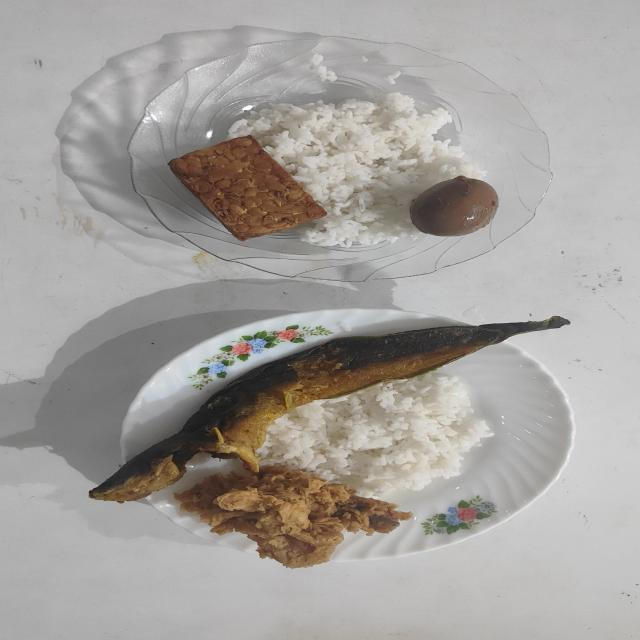nasi_putih: (230, 94, 484, 248), (259, 373, 492, 498)
tempe_goreng: (169, 136, 326, 242)
